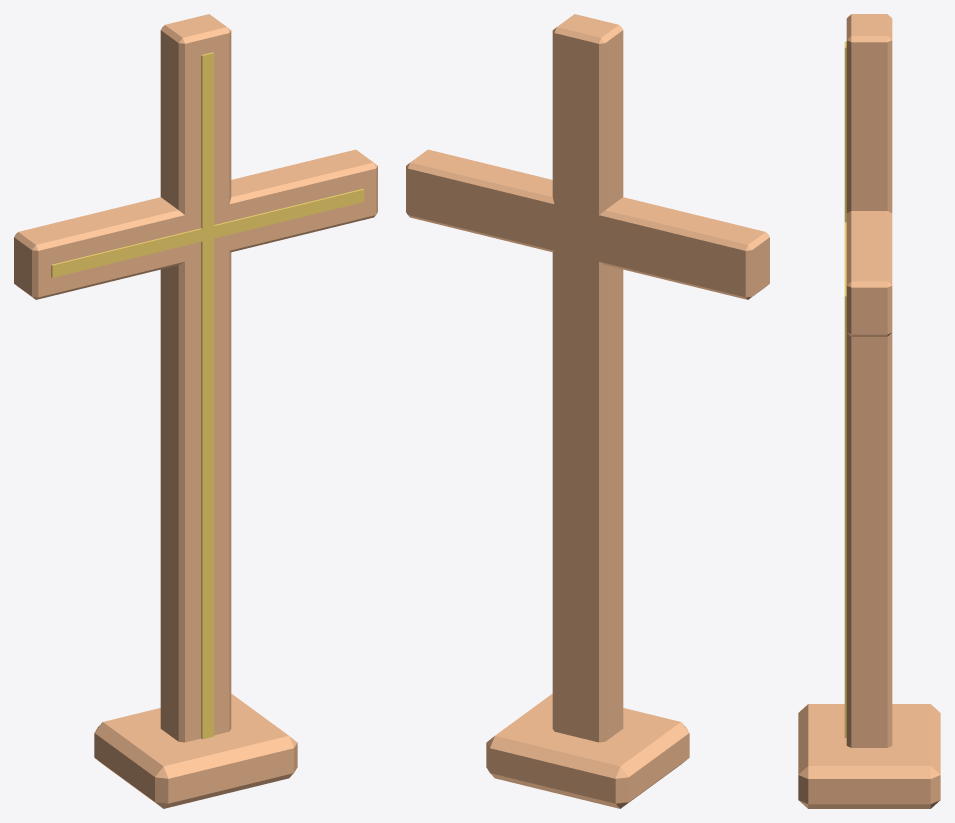
The picture shows the model from 3 angles, left to right: view 1: azimuth 30°, elevation 25°; view 2: azimuth 150°, elevation 25°; view 3: azimuth 270°, elevation 25°; orthographic projection.
Visible parts, largest first — view 1: Cross upright, Cross arm, Stepped plinth, Inset upright, Inset arm; view 2: Cross upright, Cross arm, Stepped plinth; view 3: Cross upright, Stepped plinth, Cross arm, Inset upright.
Boxes of the visible parts, x1=… form: Cross upright: x1=160, y1=14, x2=231, y2=742; Cross arm: x1=14, y1=149, x2=377, y2=299; Stepped plinth: x1=94, y1=694, x2=297, y2=808; Inset upright: x1=201, y1=52, x2=214, y2=739; Inset arm: x1=51, y1=189, x2=364, y2=277; Cross upright: x1=552, y1=14, x2=623, y2=742; Cross arm: x1=406, y1=149, x2=769, y2=299; Stepped plinth: x1=486, y1=694, x2=689, y2=808; Cross upright: x1=846, y1=14, x2=892, y2=747; Stepped plinth: x1=798, y1=704, x2=940, y2=808; Cross arm: x1=846, y1=211, x2=892, y2=336; Inset upright: x1=844, y1=41, x2=846, y2=737.
Size of the model in its own units: 1.02 by 2.1 by 0.36.
Materials: 1 (1 with a texture image).
